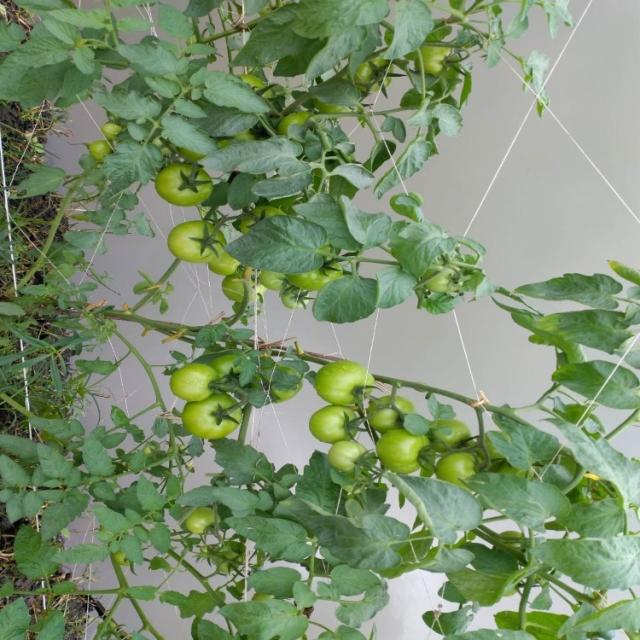tomato: (168, 358, 241, 433), (308, 350, 376, 423), (174, 213, 237, 271), (180, 394, 234, 454), (375, 425, 432, 480), (158, 164, 213, 218), (351, 45, 396, 109), (300, 406, 362, 450), (438, 442, 481, 497), (306, 249, 348, 303), (430, 258, 476, 304), (428, 408, 472, 449), (360, 386, 402, 426), (204, 239, 241, 281), (211, 346, 246, 385), (180, 514, 220, 547), (417, 44, 457, 76), (327, 439, 358, 472), (87, 142, 109, 167), (102, 121, 129, 141)
